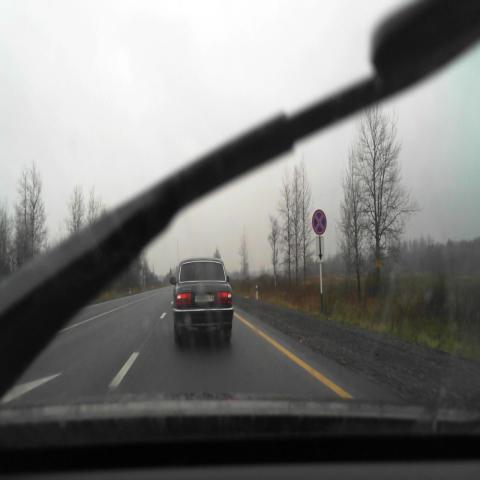8_2_3: (316, 235, 324, 263)
